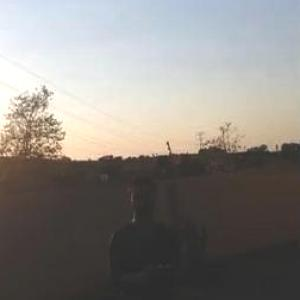follow: (97, 165, 190, 299)
